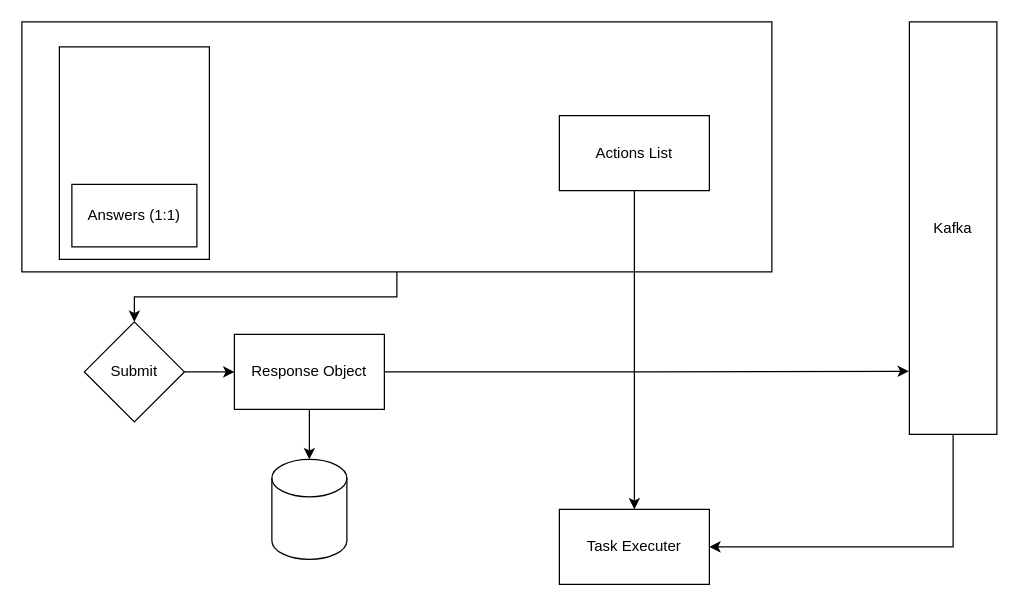
The diagram is 1019 pixels wide and 606 high, and some of its shapes have lost their labels. The box of each missing label's shape, as (x1, y1, x2, y2) in pixels:
Database: (271, 458, 347, 559)
Form: (21, 21, 772, 272)
Questions (1:n): (58, 46, 209, 259)
